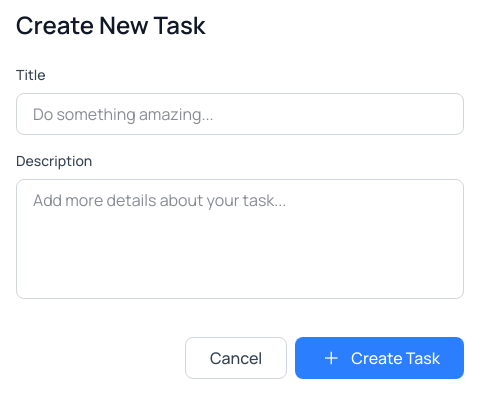
NewTask Component › field validation › shows error for title less than 3 characters
Type "ab" into the field named "title". click: (240, 114)
box: [16,93,464,135]
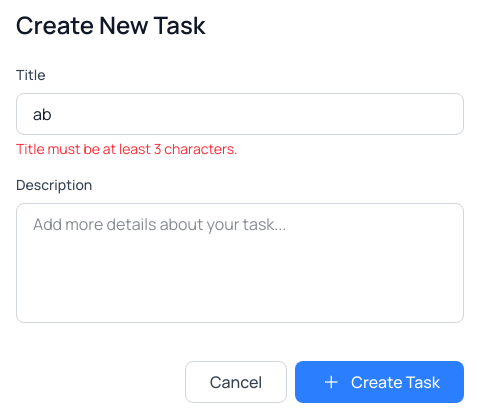
Check: the text "at least 3 characters" is shown, box [16,139,238,158]
